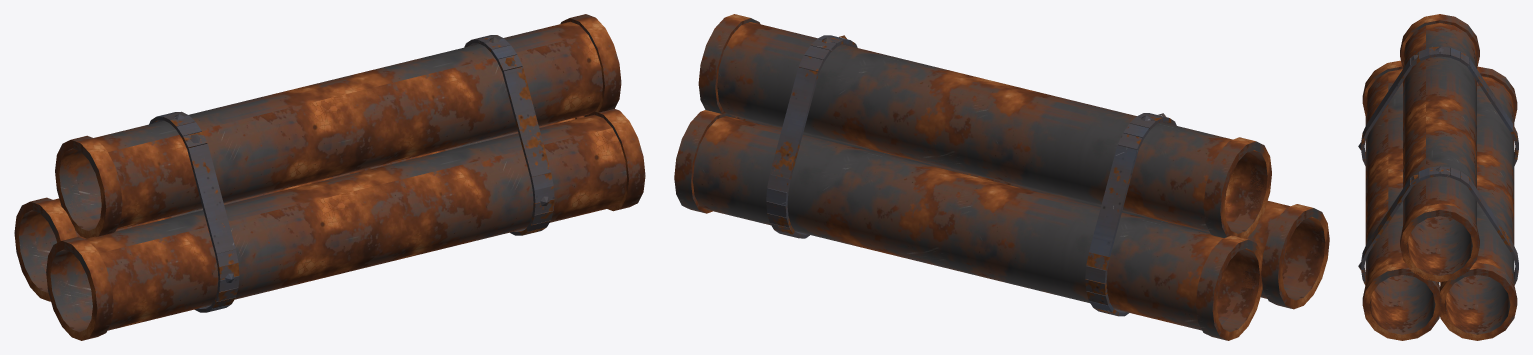
The model's file is Pipe_Bundle.glb.
3 views of the same model, side by side, from view 1: azimuth 30°, elevation 25°; view 2: azimuth 150°, elevation 25°; view 3: azimuth 270°, elevation 25° (orthographic). The views are drawn at different scales.
Visible parts, largest first — view 1: Pipe_Bundle; view 2: Pipe_Bundle; view 3: Pipe_Bundle.
Boxes of the visible parts, box(x1,y1,x2,y2) form: Pipe_Bundle: box(14, 14, 645, 340); Pipe_Bundle: box(674, 14, 1329, 340); Pipe_Bundle: box(1358, 14, 1518, 340).
Size of the model in its own units: 2 by 0.611 by 0.6519.
Materials: 2 (2 with a texture image).
